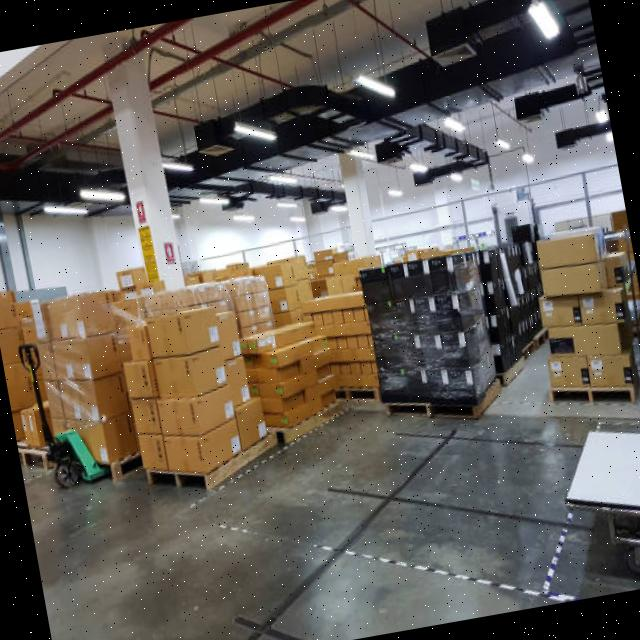Wooden-Pallets: (143, 429, 278, 494), (544, 384, 638, 409)
